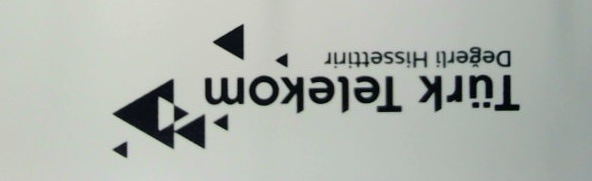AQ_TURKTelekom: (96, 22, 522, 162)
